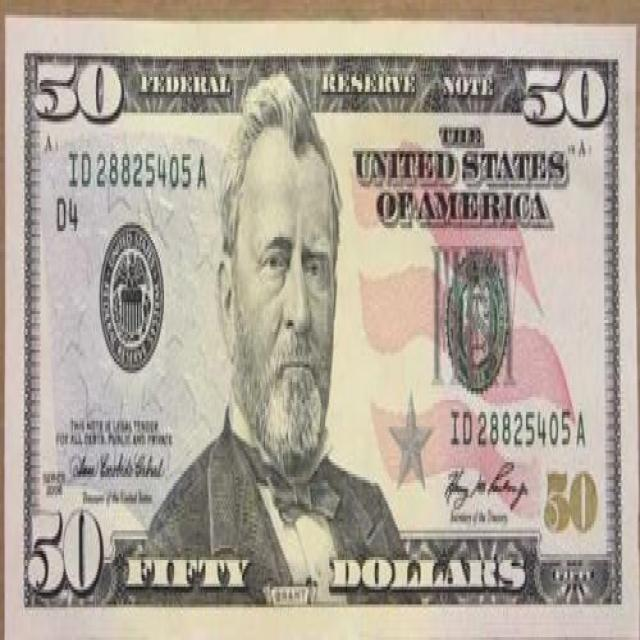50-Front: (4, 15, 637, 640)
